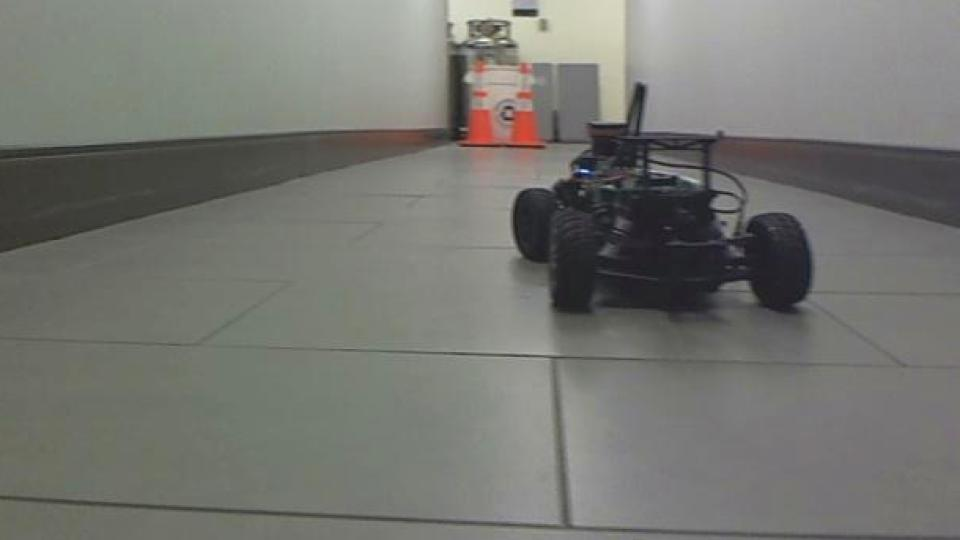car: (507, 79, 817, 317)
